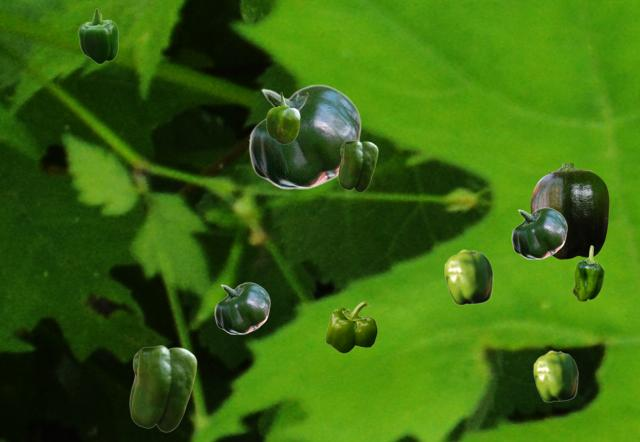bell_pepper: (248, 84, 360, 188), (530, 163, 608, 258), (129, 345, 196, 431), (214, 282, 269, 333), (511, 207, 566, 258), (444, 249, 492, 304), (325, 301, 376, 352), (533, 350, 577, 401), (78, 8, 117, 63), (338, 140, 377, 191), (572, 245, 603, 300), (266, 92, 299, 143)
